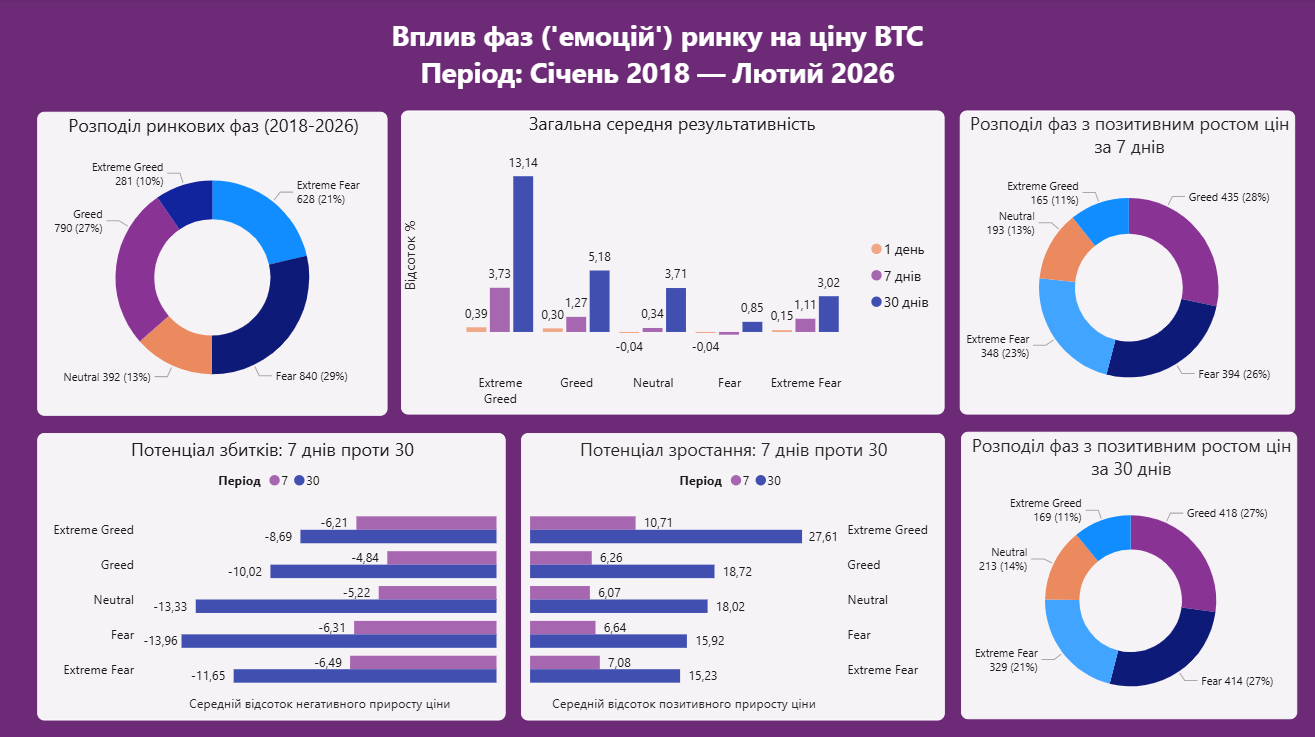

The page's visual inventory and layout, read from the dashboard file:
{"tool":"powerbi","page":{"name":"Page 1","canvas":[1280,720],"ordinal":0},"visuals":[{"type":"clusteredColumnChart","title":"Загальна середня результативність ","fields":{"Y":["Avg(price_change.percent_1d)","Avg(price_change.percent_7d)","Avg(price_change.percent_30d)"],"Category":["price_change.value_classification"]},"box":[392.2,108.9,526.6,294.2],"z":0},{"type":"donutChart","title":"Розподіл ринкових фаз (2018-2026)","fields":{"Category":["price_change.value_classification"],"Y":["CountNonNull(price_change.value_classification)"]},"box":[39.9,110.2,338.9,294.2],"z":1000},{"type":"clusteredBarChart","title":"Потенціал збитків: 7 днів проти 30","fields":{"Series":["price_move.period_d"],"Category":["price_move.value_classification"],"Y":["Sum(price_move.avg_negative_percent_change)"]},"box":[39.9,421.3,453.9,278.4],"z":2000},{"type":"clusteredBarChart","title":"Потенціал зростання: 7 днів проти 30","fields":{"Series":["price_move.period_d"],"Category":["price_move.value_classification"],"Y":["Sum(price_move.avg_positive_percent_change)"]},"box":[508.4,421.3,410.4,278.4],"z":3000},{"type":"donutChart","title":"Розподіл фаз з позитивним ростом цін за 7 днів","fields":{"Y":["Sum(price_move.positive_dynamic_count)"],"Category":["price_move.value_classification"]},"box":[933.3,108.9,324.4,294.2],"z":4000},{"type":"textbox","box":[40.3,12.9,1201.2,80.6],"z":5000},{"type":"donutChart","title":"Розподіл фаз з позитивним ростом цін за 30 днів","fields":{"Y":["Sum(price_move.positive_dynamic_count)"],"Category":["price_move.value_classification"]},"box":[934.5,420,325.6,278.4],"z":5001}]}

Visuals, with their boxes in screenshot pixels (x1, y1, x2, y2), scaled from the page's 1280x720 canvas onto the 1315x737 screenshot:
"Загальна середня результативність " clusteredColumnChart: x1=403 y1=111 x2=944 y2=413
"Розподіл ринкових фаз (2018-2026)" donutChart: x1=41 y1=113 x2=389 y2=414
"Потенціал збитків: 7 днів проти 30" clusteredBarChart: x1=41 y1=431 x2=507 y2=716
"Потенціал зростання: 7 днів проти 30" clusteredBarChart: x1=522 y1=431 x2=944 y2=716
"Розподіл фаз з позитивним ростом цін за 7 днів" donutChart: x1=959 y1=111 x2=1292 y2=413
textbox: x1=41 y1=13 x2=1275 y2=96
"Розподіл фаз з позитивним ростом цін за 30 днів" donutChart: x1=960 y1=430 x2=1295 y2=715
